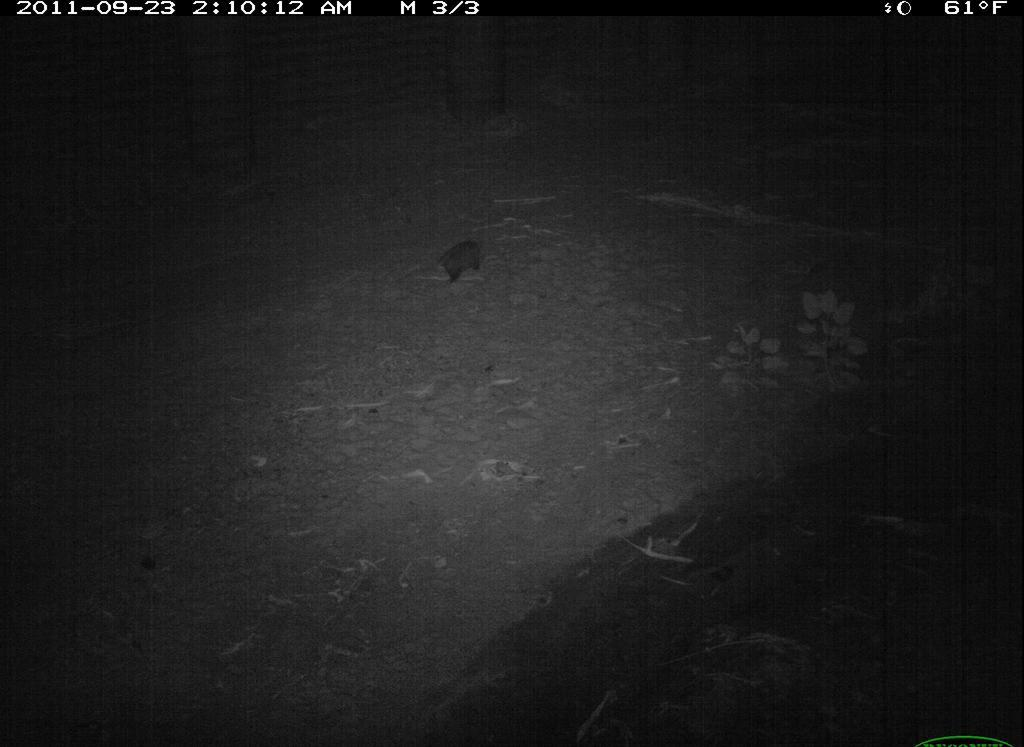opossum: (429, 237, 493, 289)
